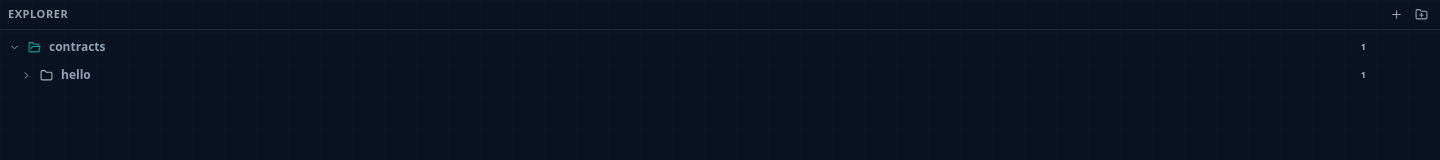
Scenario: FileTree › nested folders › renders deeply nested file nodes
The width and height of the screenshot is (1440, 160).
Expected: the text "contracts" is shown, [49,39,106,55]
Step 1. Click the button "hello 1" → (26, 75), box [0,62,1439,88]
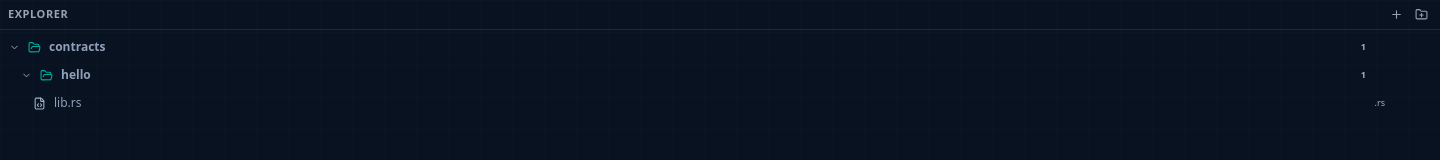
Now the text "lib.rs" is shown, box [54,95,82,111]
